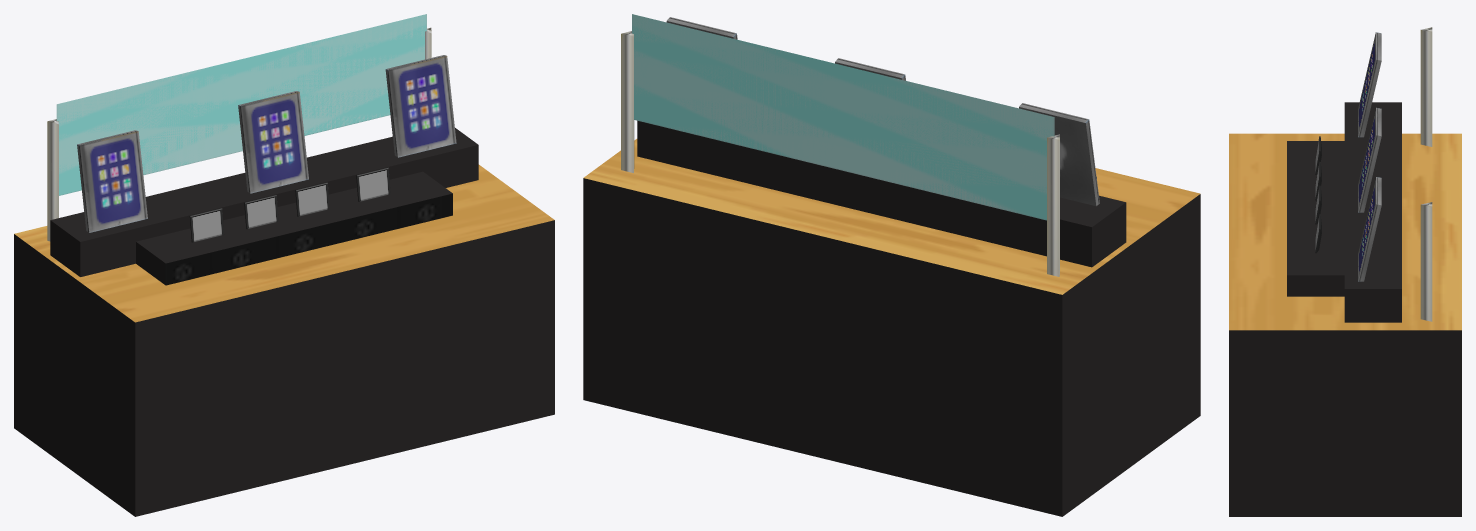
Rendered from Tablet_Display.fbx.
3 renders of one model, left to right at view 1: azimuth 30°, elevation 25°; view 2: azimuth 150°, elevation 25°; view 3: azimuth 270°, elevation 25°, orthographic. The views are drawn at different scales.
Visible parts, largest first — view 1: polySurface9; view 2: polySurface9; view 3: polySurface9.
Boxes of the visible parts, x1=… form: polySurface9: x1=14, y1=14, x2=554, y2=516; polySurface9: x1=583, y1=14, x2=1200, y2=516; polySurface9: x1=1229, y1=27, x2=1461, y2=516.
Size of the model in its own units: 2 by 1.51 by 1.
